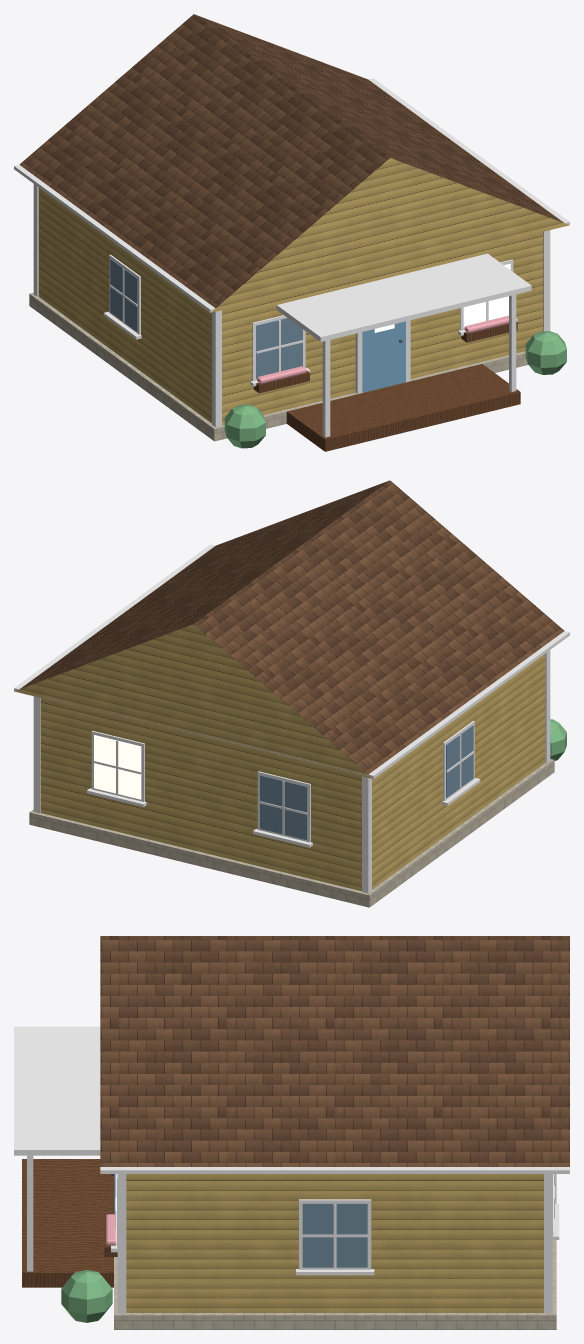
File: exterior.glb
3 renders of one model, top to bottom at view 1: azimuth 30°, elevation 25°; view 2: azimuth 150°, elevation 25°; view 3: azimuth 270°, elevation 25°, orthographic. The views are drawn at different scales.
Parts seen in each view (by area): view 1: House_house_03; view 2: House_house_03; view 3: House_house_03.
Boxes of the visible parts, bbox=[...] form: House_house_03: bbox=[14, 14, 569, 451]; House_house_03: bbox=[14, 480, 569, 907]; House_house_03: bbox=[14, 936, 569, 1329].
Bounding box in the file's own units: 9.2 × 6.07 × 10.3.
7 materials, 7 textured.
